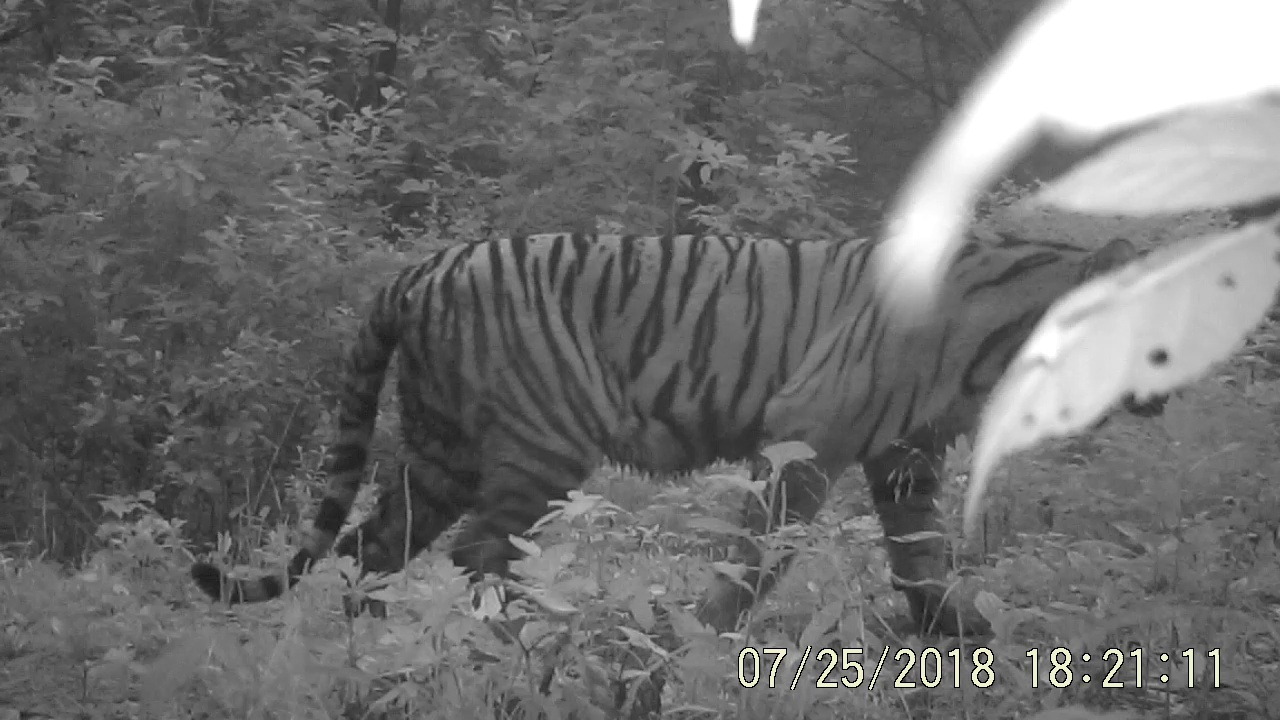Tiger: (150, 148, 1207, 637)
